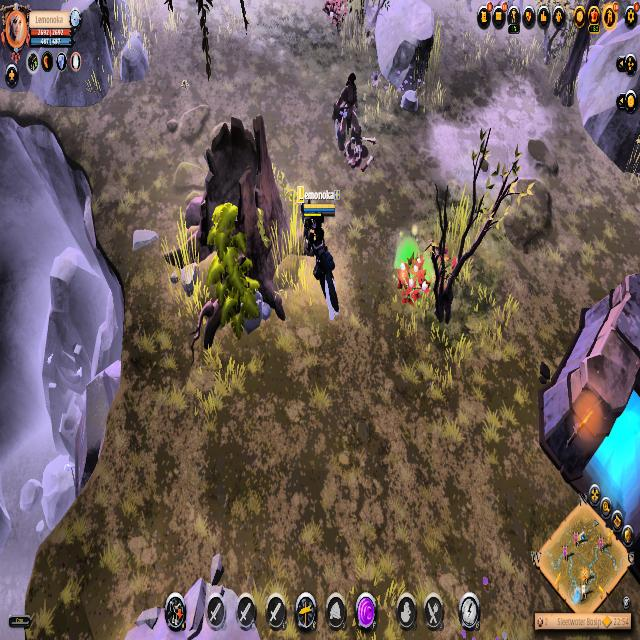fiber tier 5: (396, 248, 432, 310)
